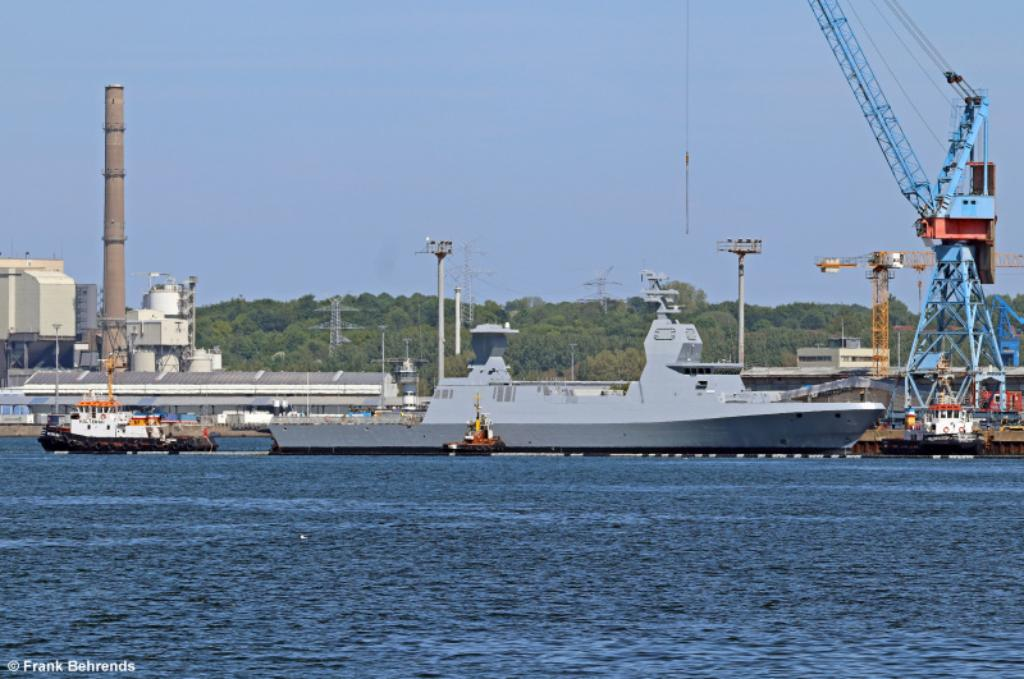Warship: (264, 267, 886, 451)
